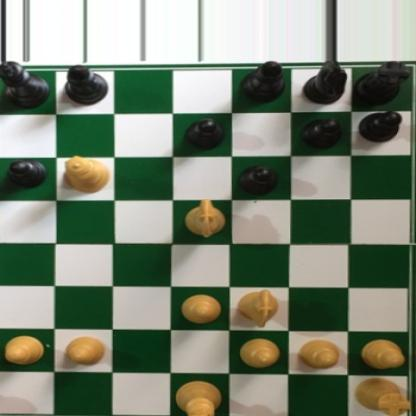black-bishop: (62, 61, 111, 106), (240, 61, 286, 102)
black-king: (0, 61, 51, 109)
black-knight: (303, 61, 348, 108)
black-pawn: (357, 109, 403, 143), (182, 116, 225, 150), (300, 117, 341, 151), (4, 159, 48, 189), (237, 163, 277, 196)
black-rook: (349, 61, 410, 107)
white-king: (168, 378, 221, 416)
white-knight: (181, 198, 225, 241), (235, 288, 282, 328)
white-pawn: (354, 338, 405, 371), (61, 333, 108, 367), (235, 335, 282, 369), (1, 333, 49, 366), (296, 338, 341, 371), (179, 292, 222, 325)
white-queen: (61, 155, 112, 194)
white-rook: (349, 375, 410, 416)
